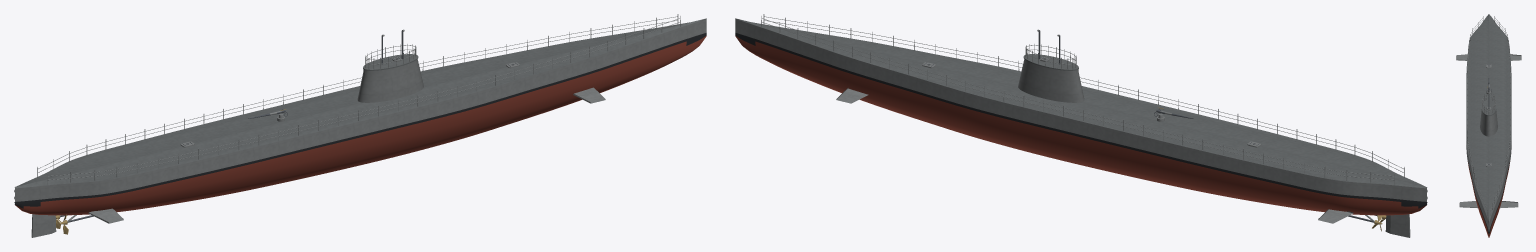
The model's file is kaichu.glb.
3 views of the same model, side by side, from view 1: azimuth 30°, elevation 25°; view 2: azimuth 150°, elevation 25°; view 3: azimuth 270°, elevation 25° (orthographic). The views are drawn at different scales.
Visible parts, largest first — view 1: Kaichu type; view 2: Kaichu type; view 3: Kaichu type.
Boxes of the visible parts, left/top/right/bottom form: Kaichu type: left=14, top=14, right=706, bottom=237; Kaichu type: left=735, top=14, right=1427, bottom=237; Kaichu type: left=1456, top=14, right=1521, bottom=237.
Bounding box in the file's own units: 69.19 × 11.52 × 9.06.
Materials: 6 (2 with a texture image).
